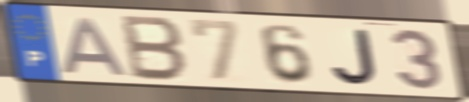3: (387, 27, 445, 93)
6: (257, 22, 314, 86)
7: (186, 17, 248, 85)
A: (60, 15, 132, 78)
B: (121, 13, 190, 84)
J: (329, 27, 381, 88)
